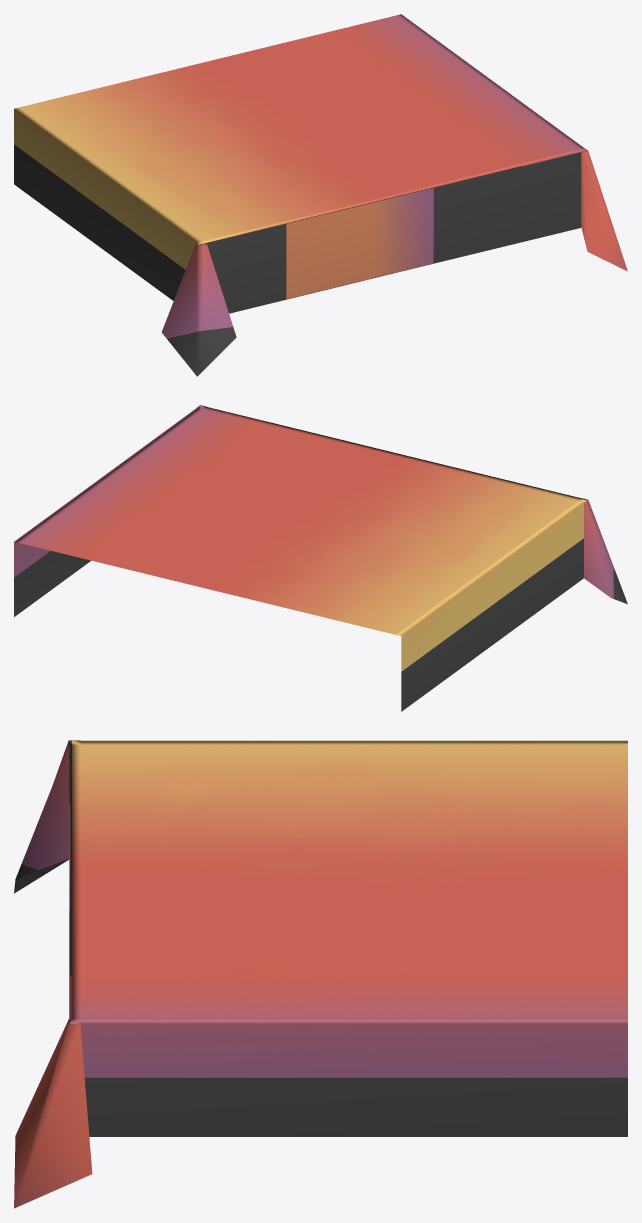
The model's file is levelTableLayerOne.obj.
3 views of the same model, one above another, from view 1: azimuth 30°, elevation 25°; view 2: azimuth 150°, elevation 25°; view 3: azimuth 270°, elevation 25° (orthographic). The views are drawn at different scales.
Parts seen in each view (by area): view 1: Table; view 2: Table; view 3: Table.
Part boxes in pixels (x1,y1,x2,y2): Table: (14,14,627,376); Table: (14,405,627,711); Table: (14,740,627,1208).
Bounding box in the file's own units: 69.65 × 16.69 × 54.97.
